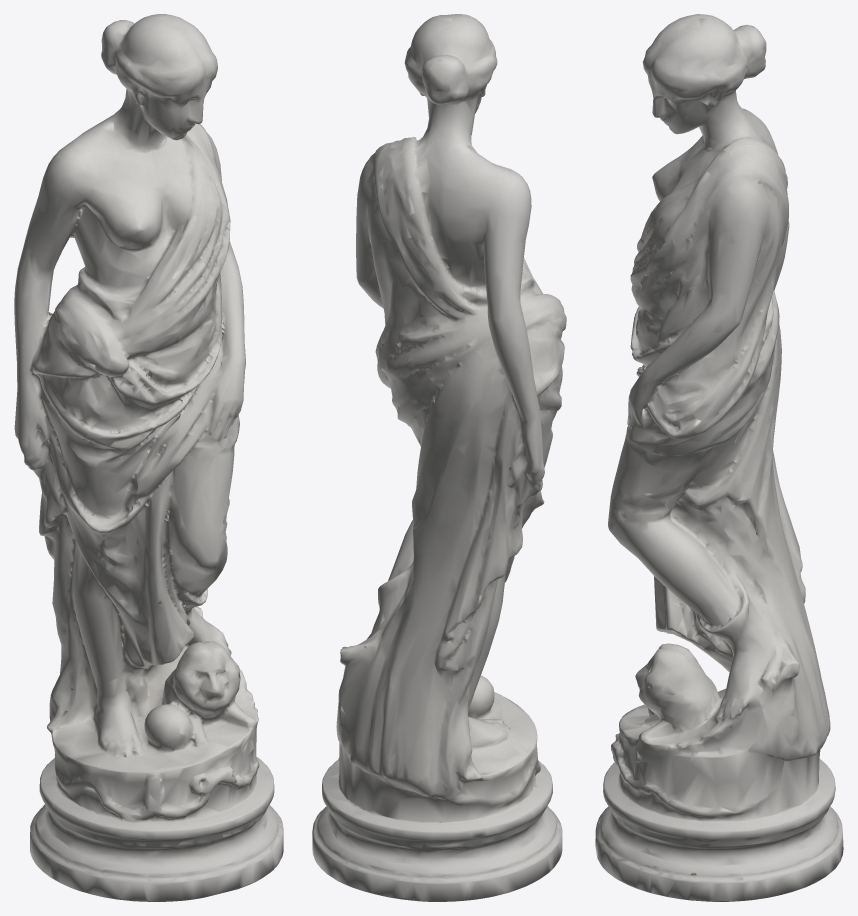
File: statue_draped.glb
The picture shows the model from 3 angles, left to right: view 1: azimuth 30°, elevation 25°; view 2: azimuth 150°, elevation 25°; view 3: azimuth 270°, elevation 25°; orthographic projection.
Bounding box in the file's own units: 0.5567 × 1.91 × 0.5192.
1 material, 1 textured.
